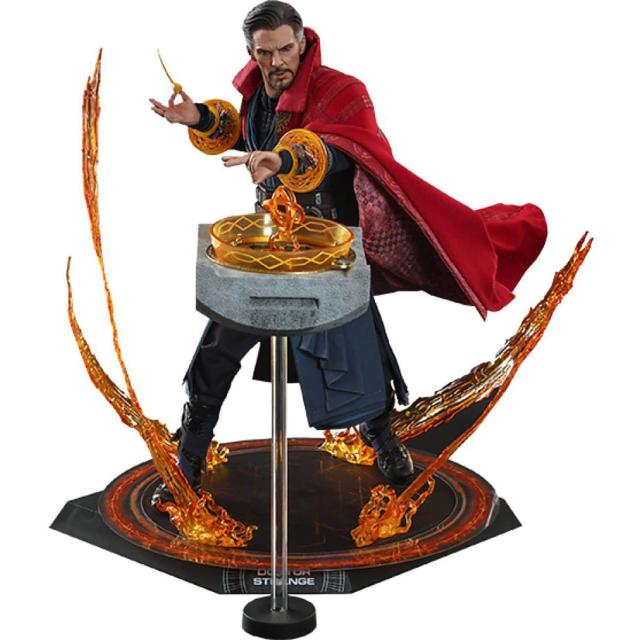doctor_strange: (160, 13, 445, 551)
